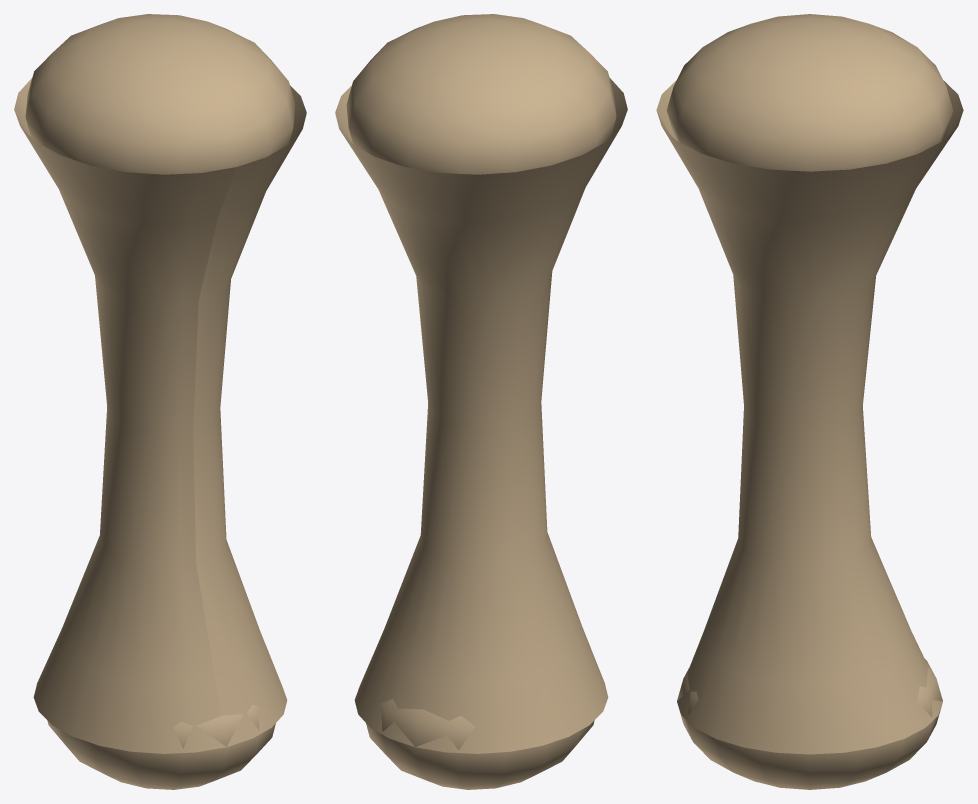
The model's file is right_digit_5_proximal.glb.
3 views of the same model, side by side, from view 1: azimuth 30°, elevation 25°; view 2: azimuth 150°, elevation 25°; view 3: azimuth 270°, elevation 25° (orthographic).
Parts seen in each view (by area): view 1: right_digit_5_proximal:diaphysis, right_digit_5_proximal:proximal-envelope, right_digit_5_proximal:distal-envelope; view 2: right_digit_5_proximal:diaphysis, right_digit_5_proximal:proximal-envelope, right_digit_5_proximal:distal-envelope; view 3: right_digit_5_proximal:diaphysis, right_digit_5_proximal:proximal-envelope, right_digit_5_proximal:distal-envelope.
Boxes of the visible parts, box(x1,y1,x2,y2) form: right_digit_5_proximal:diaphysis: box(14, 78, 306, 753); right_digit_5_proximal:proximal-envelope: box(25, 14, 295, 174); right_digit_5_proximal:distal-envelope: box(47, 704, 275, 789); right_digit_5_proximal:diaphysis: box(335, 78, 627, 753); right_digit_5_proximal:proximal-envelope: box(346, 14, 616, 174); right_digit_5_proximal:distal-envelope: box(366, 699, 594, 789); right_digit_5_proximal:diaphysis: box(656, 80, 963, 754); right_digit_5_proximal:proximal-envelope: box(666, 14, 953, 171); right_digit_5_proximal:distal-envelope: box(677, 659, 942, 789).
Size of the model in its own units: 0.0799 by 0.2256 by 0.0846.
